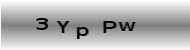3: (35, 16, 50, 31)
P: (101, 20, 117, 34)
Y: (56, 19, 70, 33)
p: (75, 25, 89, 40)
w: (118, 21, 136, 32)
